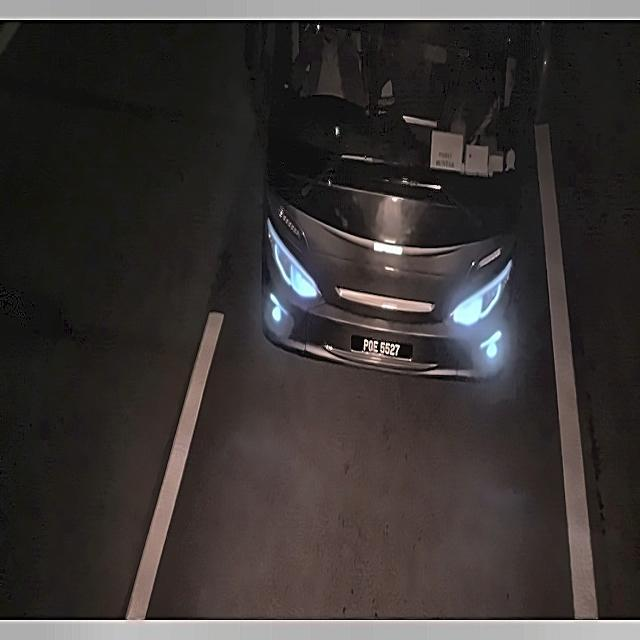car: (354, 324, 411, 368)
